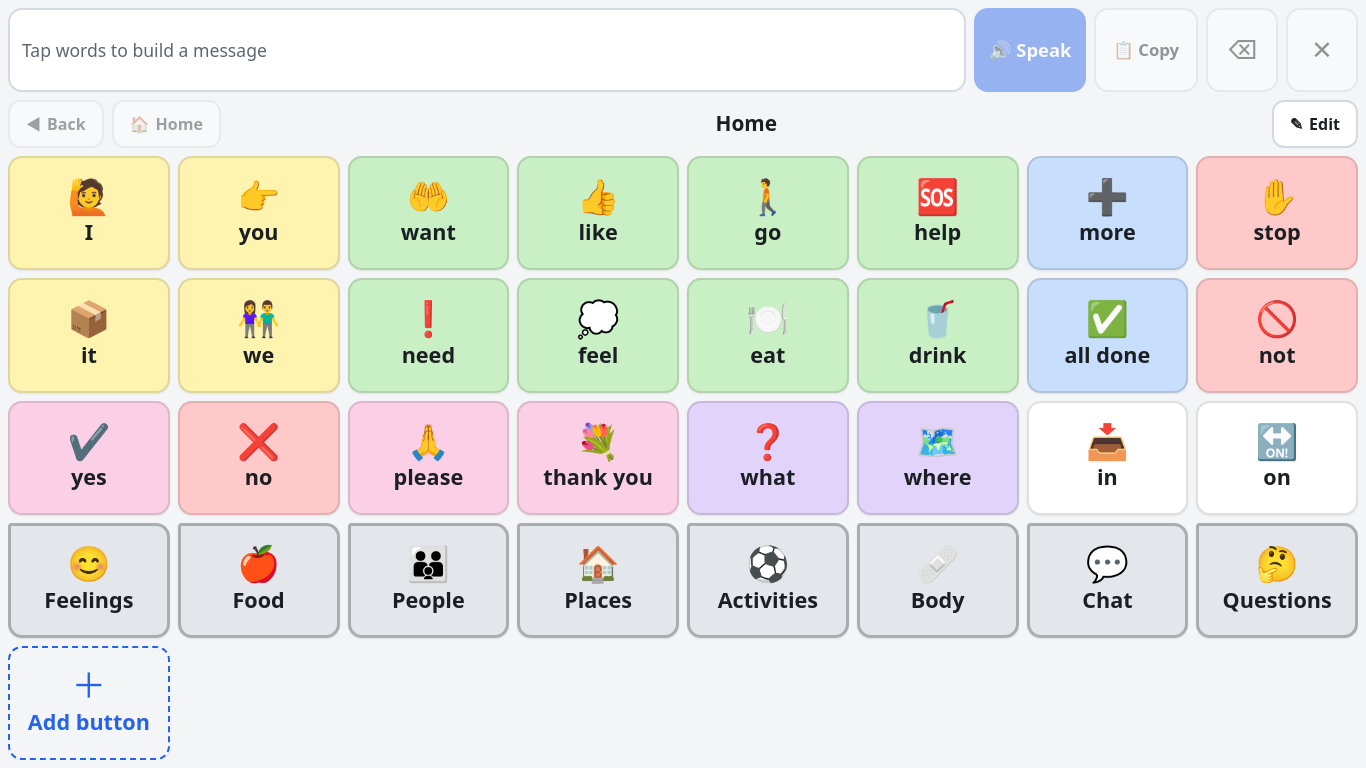
Scenario: App › skips the question when the check is turned off in settings
The width and height of the screenshot is (1366, 768).
Click the button "✎ Edit" at [1315, 124], box left=1272, top=100, right=1358, bottom=148
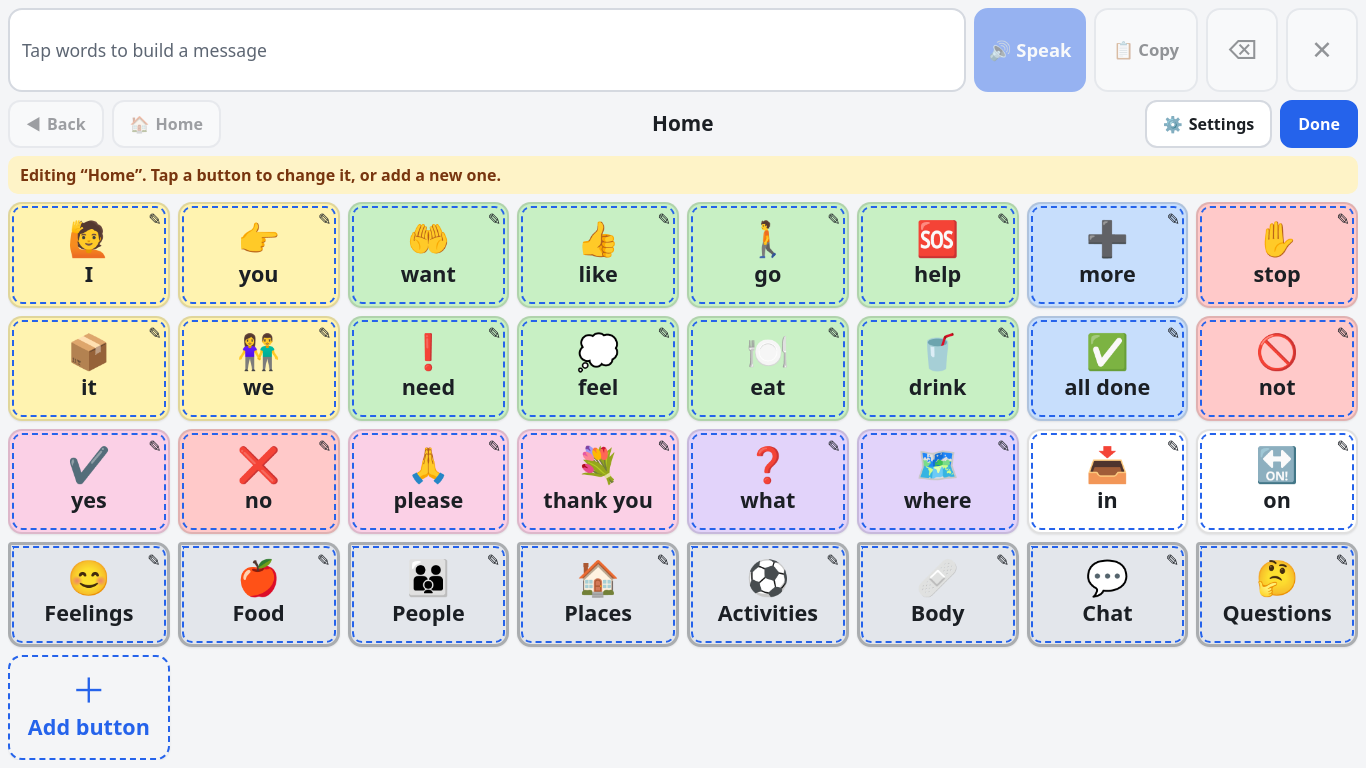
Expected: the button "Done" is shown, left=1280, top=100, right=1358, bottom=148
